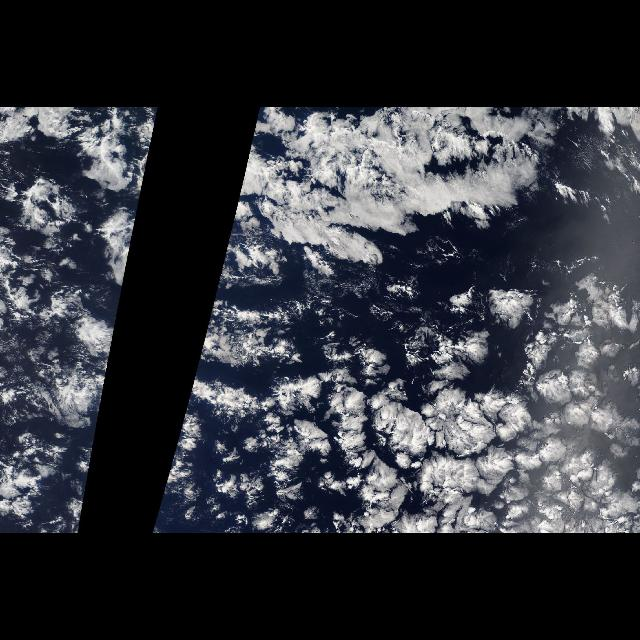Flower: (221, 257, 639, 533), (4, 115, 158, 533), (152, 315, 210, 533)
